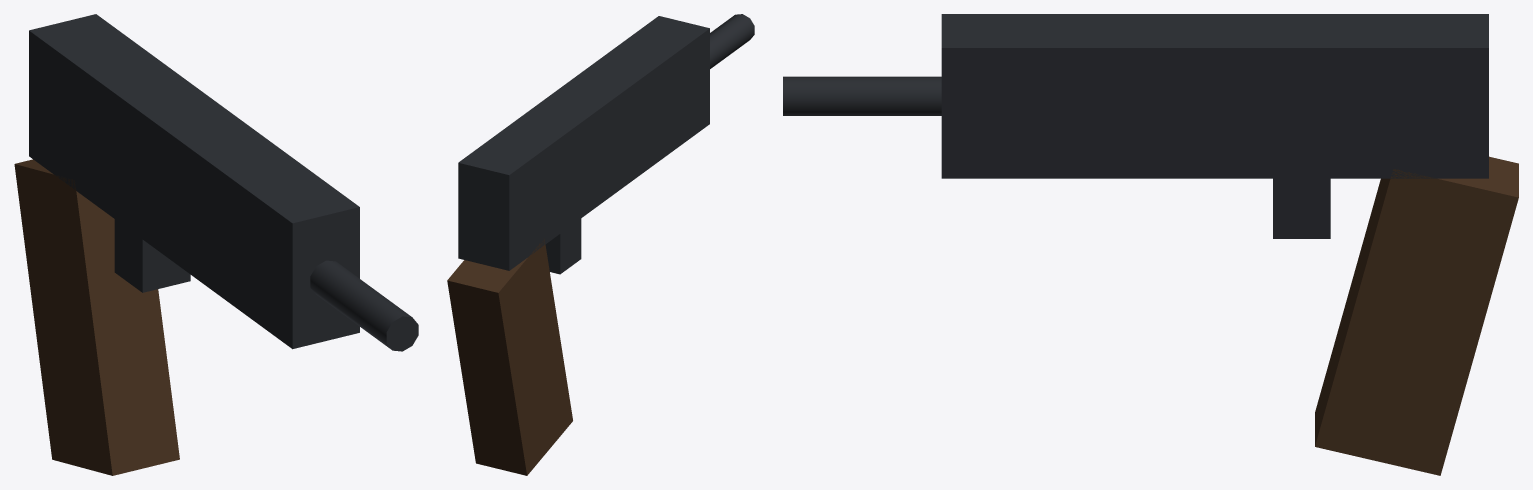
File: pistol.glb
3 renders of one model, left to right at view 1: azimuth 30°, elevation 25°; view 2: azimuth 150°, elevation 25°; view 3: azimuth 270°, elevation 25°, orthographic. The views are drawn at different scales.
Visible parts, largest first — view 1: slide, grip, barrel, trigger; view 2: slide, grip, barrel, trigger; view 3: slide, grip, barrel, trigger.
Boxes of the visible parts, box(x1,y1,x2,y2) form: slide: box(29, 14, 359, 349); grip: box(14, 159, 179, 475); barrel: box(310, 260, 418, 351); trigger: box(114, 219, 190, 292); slide: box(458, 16, 709, 270); grip: box(447, 239, 572, 475); barrel: box(710, 14, 754, 68); trigger: box(545, 218, 581, 274); slide: box(941, 14, 1488, 178); grip: box(1315, 156, 1518, 475); barrel: box(783, 76, 941, 115); trigger: box(1273, 178, 1330, 238).
Bounding box in the file's own units: 0.028 × 0.1639 × 0.2554.
